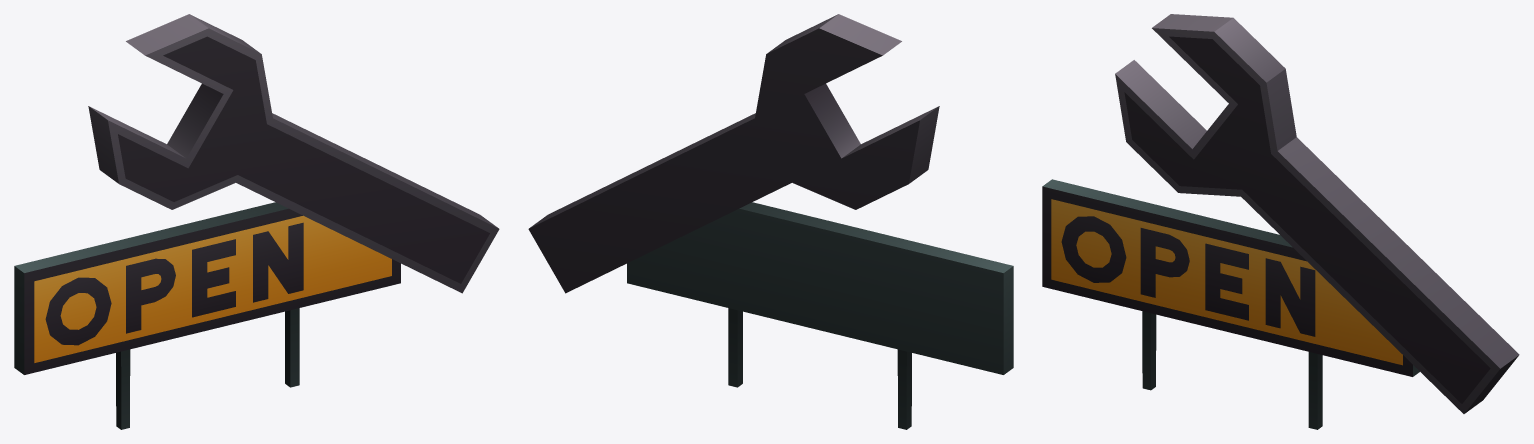
File: Title_9A.fbx
3 renders of one model, left to right at view 1: azimuth 30°, elevation 25°; view 2: azimuth 150°, elevation 25°; view 3: azimuth 330°, elevation 25°, orthographic.
Visible parts, largest first — view 1: Title_9A; view 2: Title_9A; view 3: Title_9A.
Boxes of the visible parts, x1,y1,x2,y2 form: Title_9A: (14, 14, 499, 429); Title_9A: (528, 14, 1013, 429); Title_9A: (1042, 14, 1519, 429).
Bounding box in the file's own units: 5.56 × 4.38 × 0.4049.
